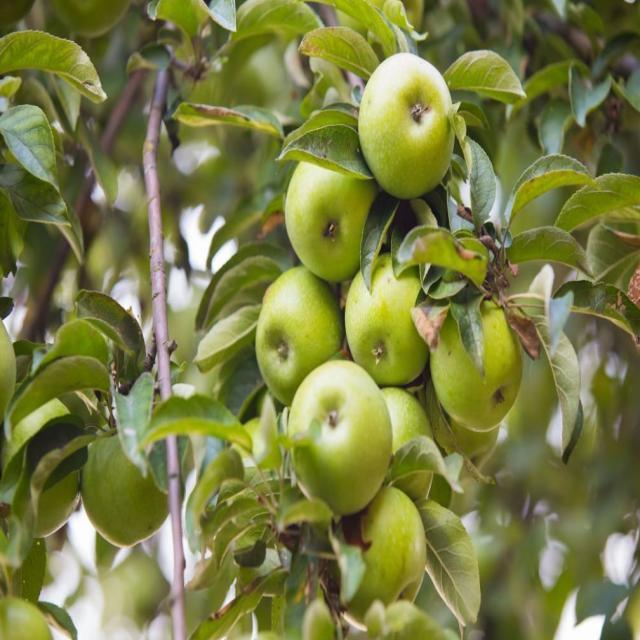Green Apple: (294, 350, 391, 508), (362, 63, 456, 191), (430, 293, 517, 423), (289, 140, 373, 264), (337, 498, 425, 616), (87, 414, 166, 544), (351, 247, 429, 364), (261, 279, 335, 387), (369, 383, 439, 476), (426, 384, 494, 466), (108, 560, 170, 637), (1, 313, 20, 430), (1, 593, 46, 640)
